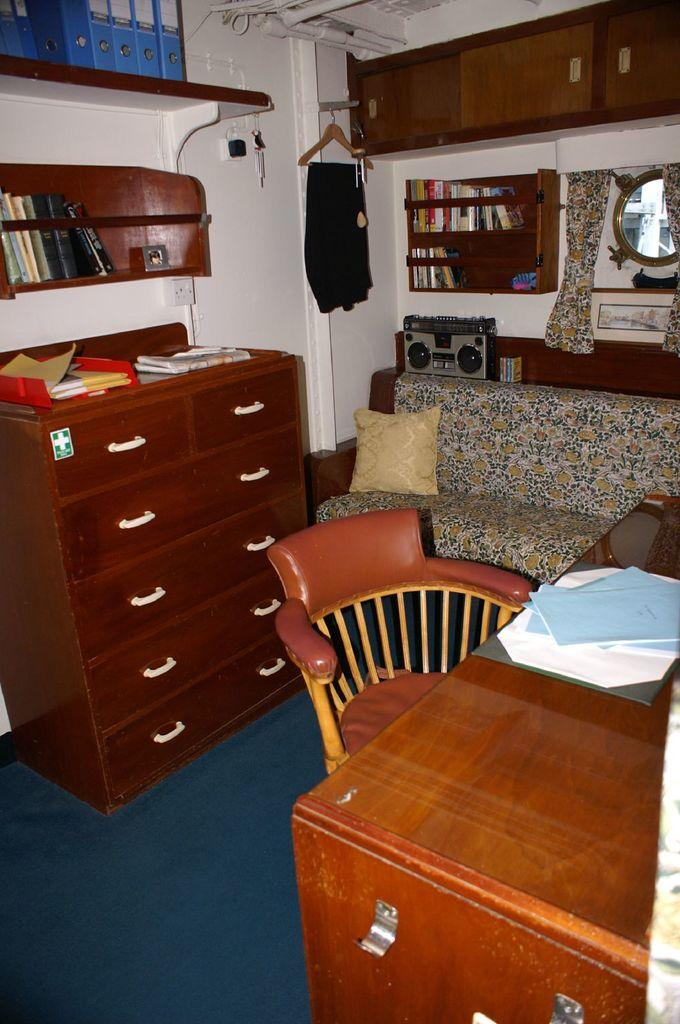cabinet_door: (70, 510, 282, 592), (68, 442, 298, 514), (94, 674, 285, 755), (73, 589, 279, 650), (52, 420, 190, 470), (188, 383, 295, 431)
handle: (118, 506, 154, 538), (128, 586, 168, 612), (254, 653, 285, 680), (144, 658, 177, 682), (104, 436, 147, 454), (154, 722, 185, 746), (247, 532, 274, 558), (233, 400, 265, 420), (249, 600, 281, 618), (240, 466, 272, 482)
